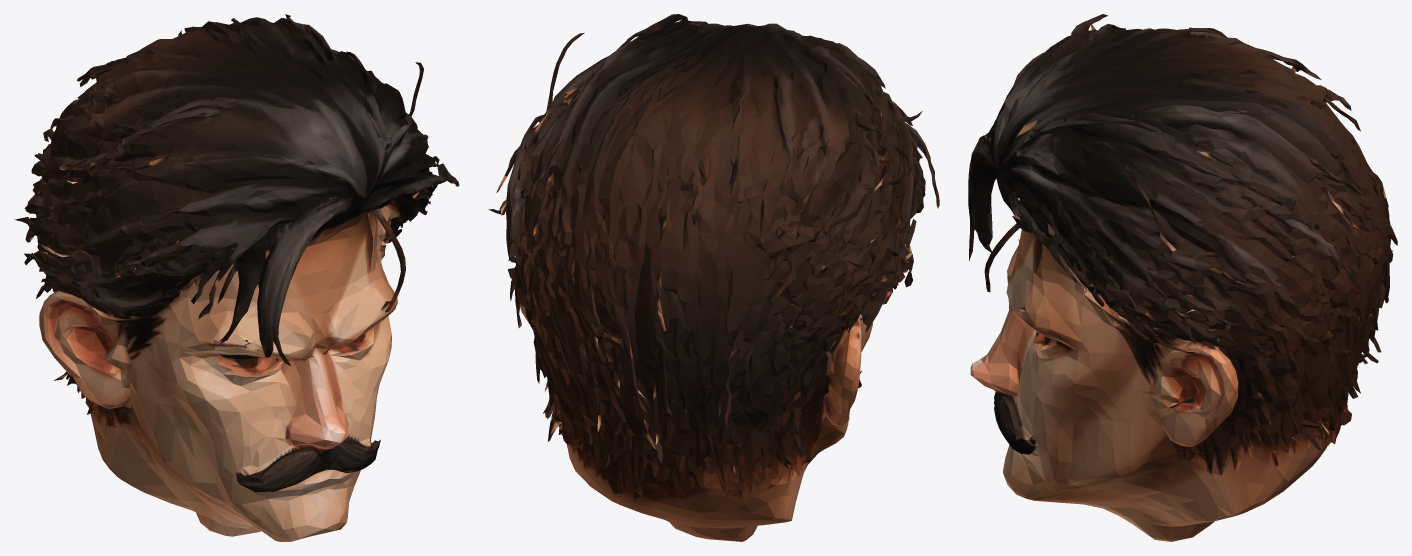
The model's file is traveler_head_side_tokubei_slim_socket_00001_.glb.
3 views of the same model, side by side, from view 1: azimuth 30°, elevation 25°; view 2: azimuth 150°, elevation 25°; view 3: azimuth 270°, elevation 25° (orthographic).
Visible parts, largest first — view 1: temp_mesh.ply; view 2: temp_mesh.ply; view 3: temp_mesh.ply.
Boxes of the visible parts, x1,y1,x2,y2 form: temp_mesh.ply: [14, 14, 459, 541]; temp_mesh.ply: [488, 14, 939, 541]; temp_mesh.ply: [968, 14, 1397, 541].
Size of the model in its own units: 1.7 by 1.97 by 1.63.
1 material, 1 textured.
